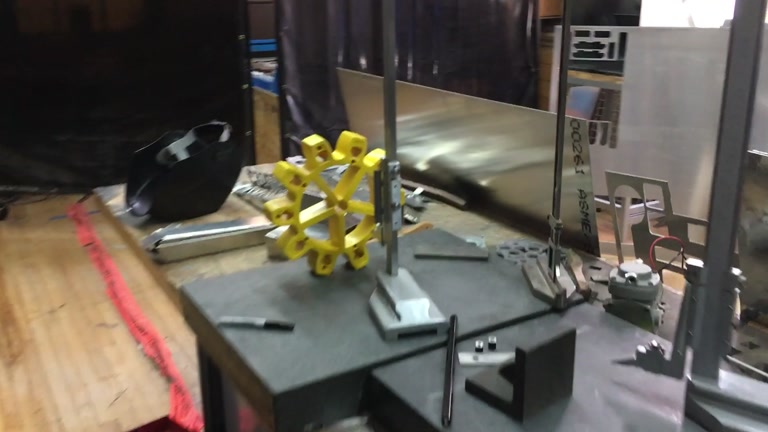gear: (261, 129, 406, 275)
